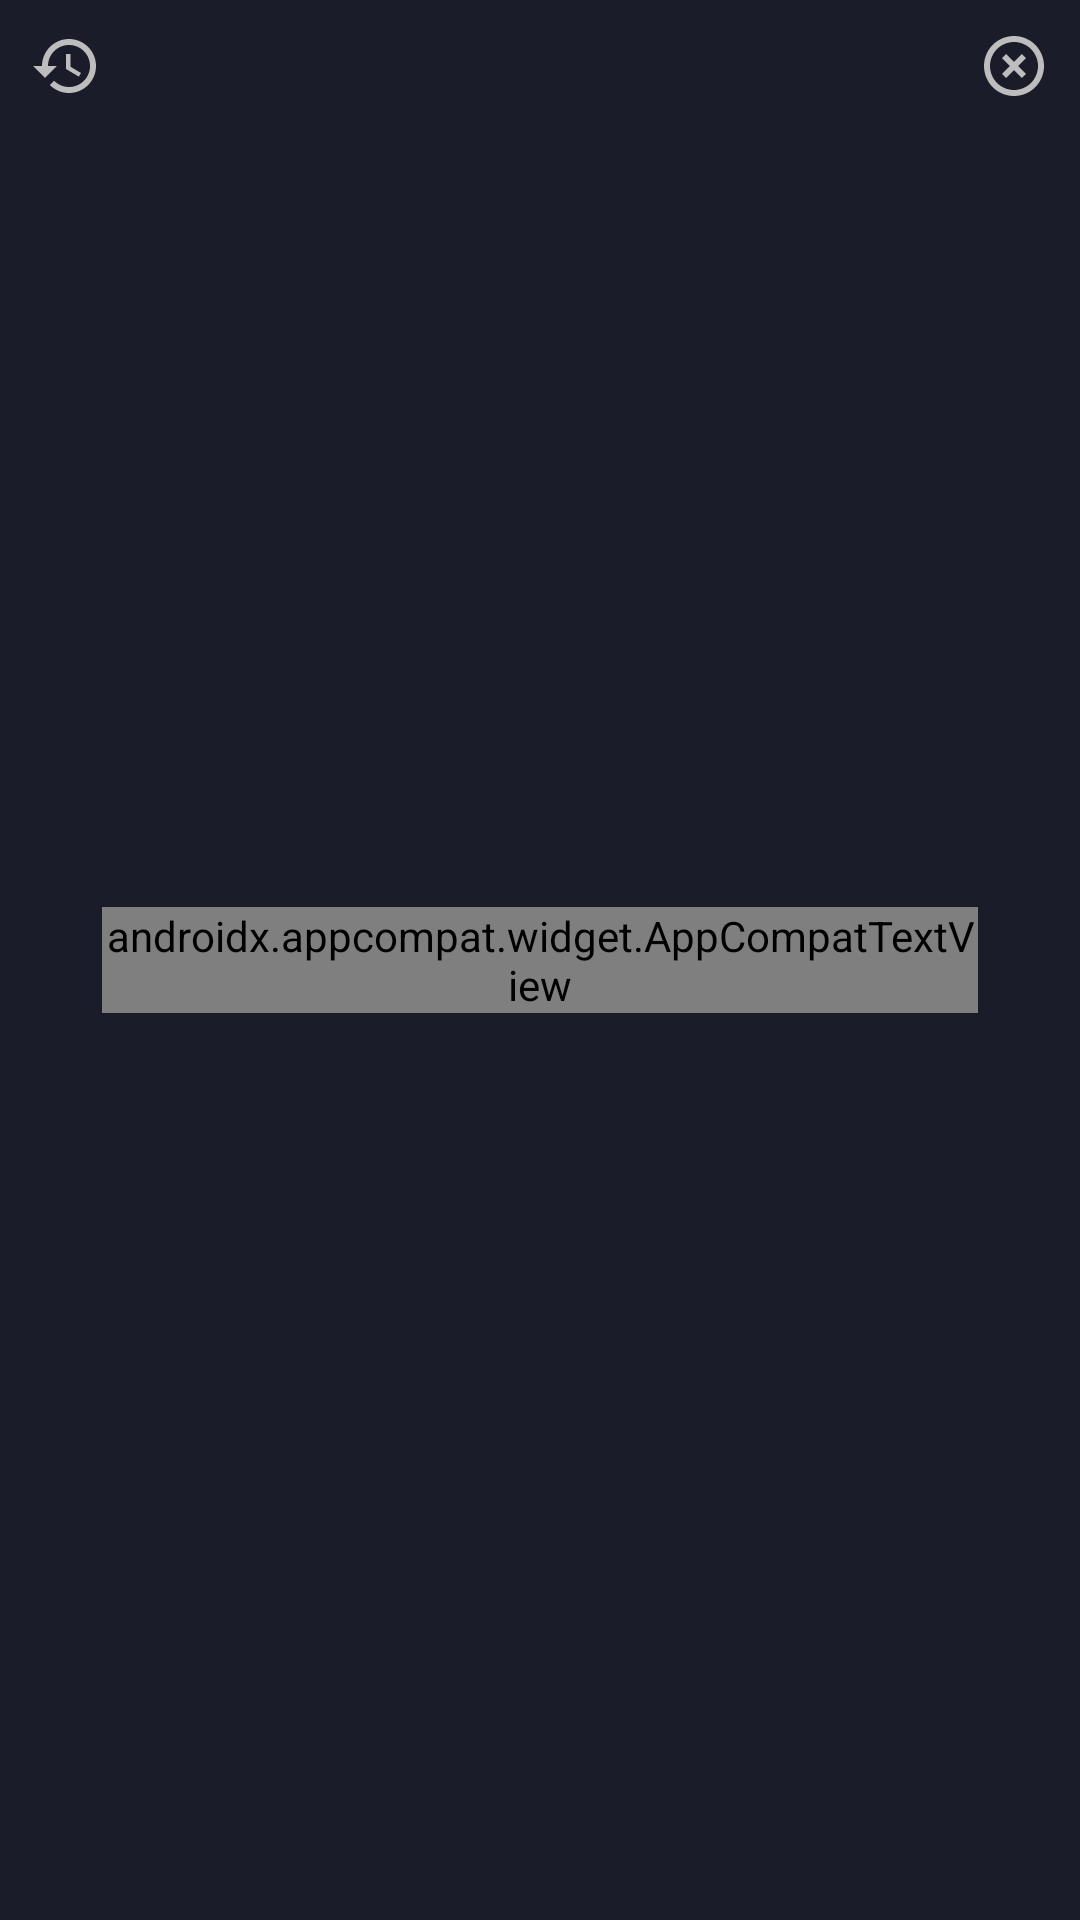

Screen size 1080 x 1920. Icon name, then its center in pixels as (x=x, y=y):
history: (x=64, y=66)
